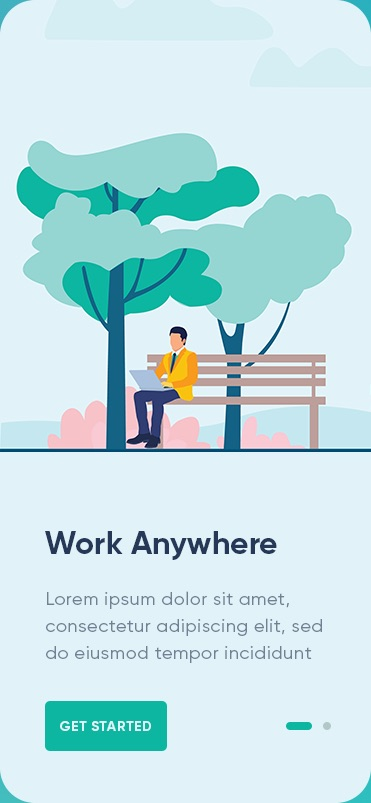Image: (1, 1, 371, 453)
PageIndicator: (285, 721, 332, 731)
Text: (46, 591, 323, 664), (45, 530, 278, 561)
TextButton: (45, 701, 168, 752)
